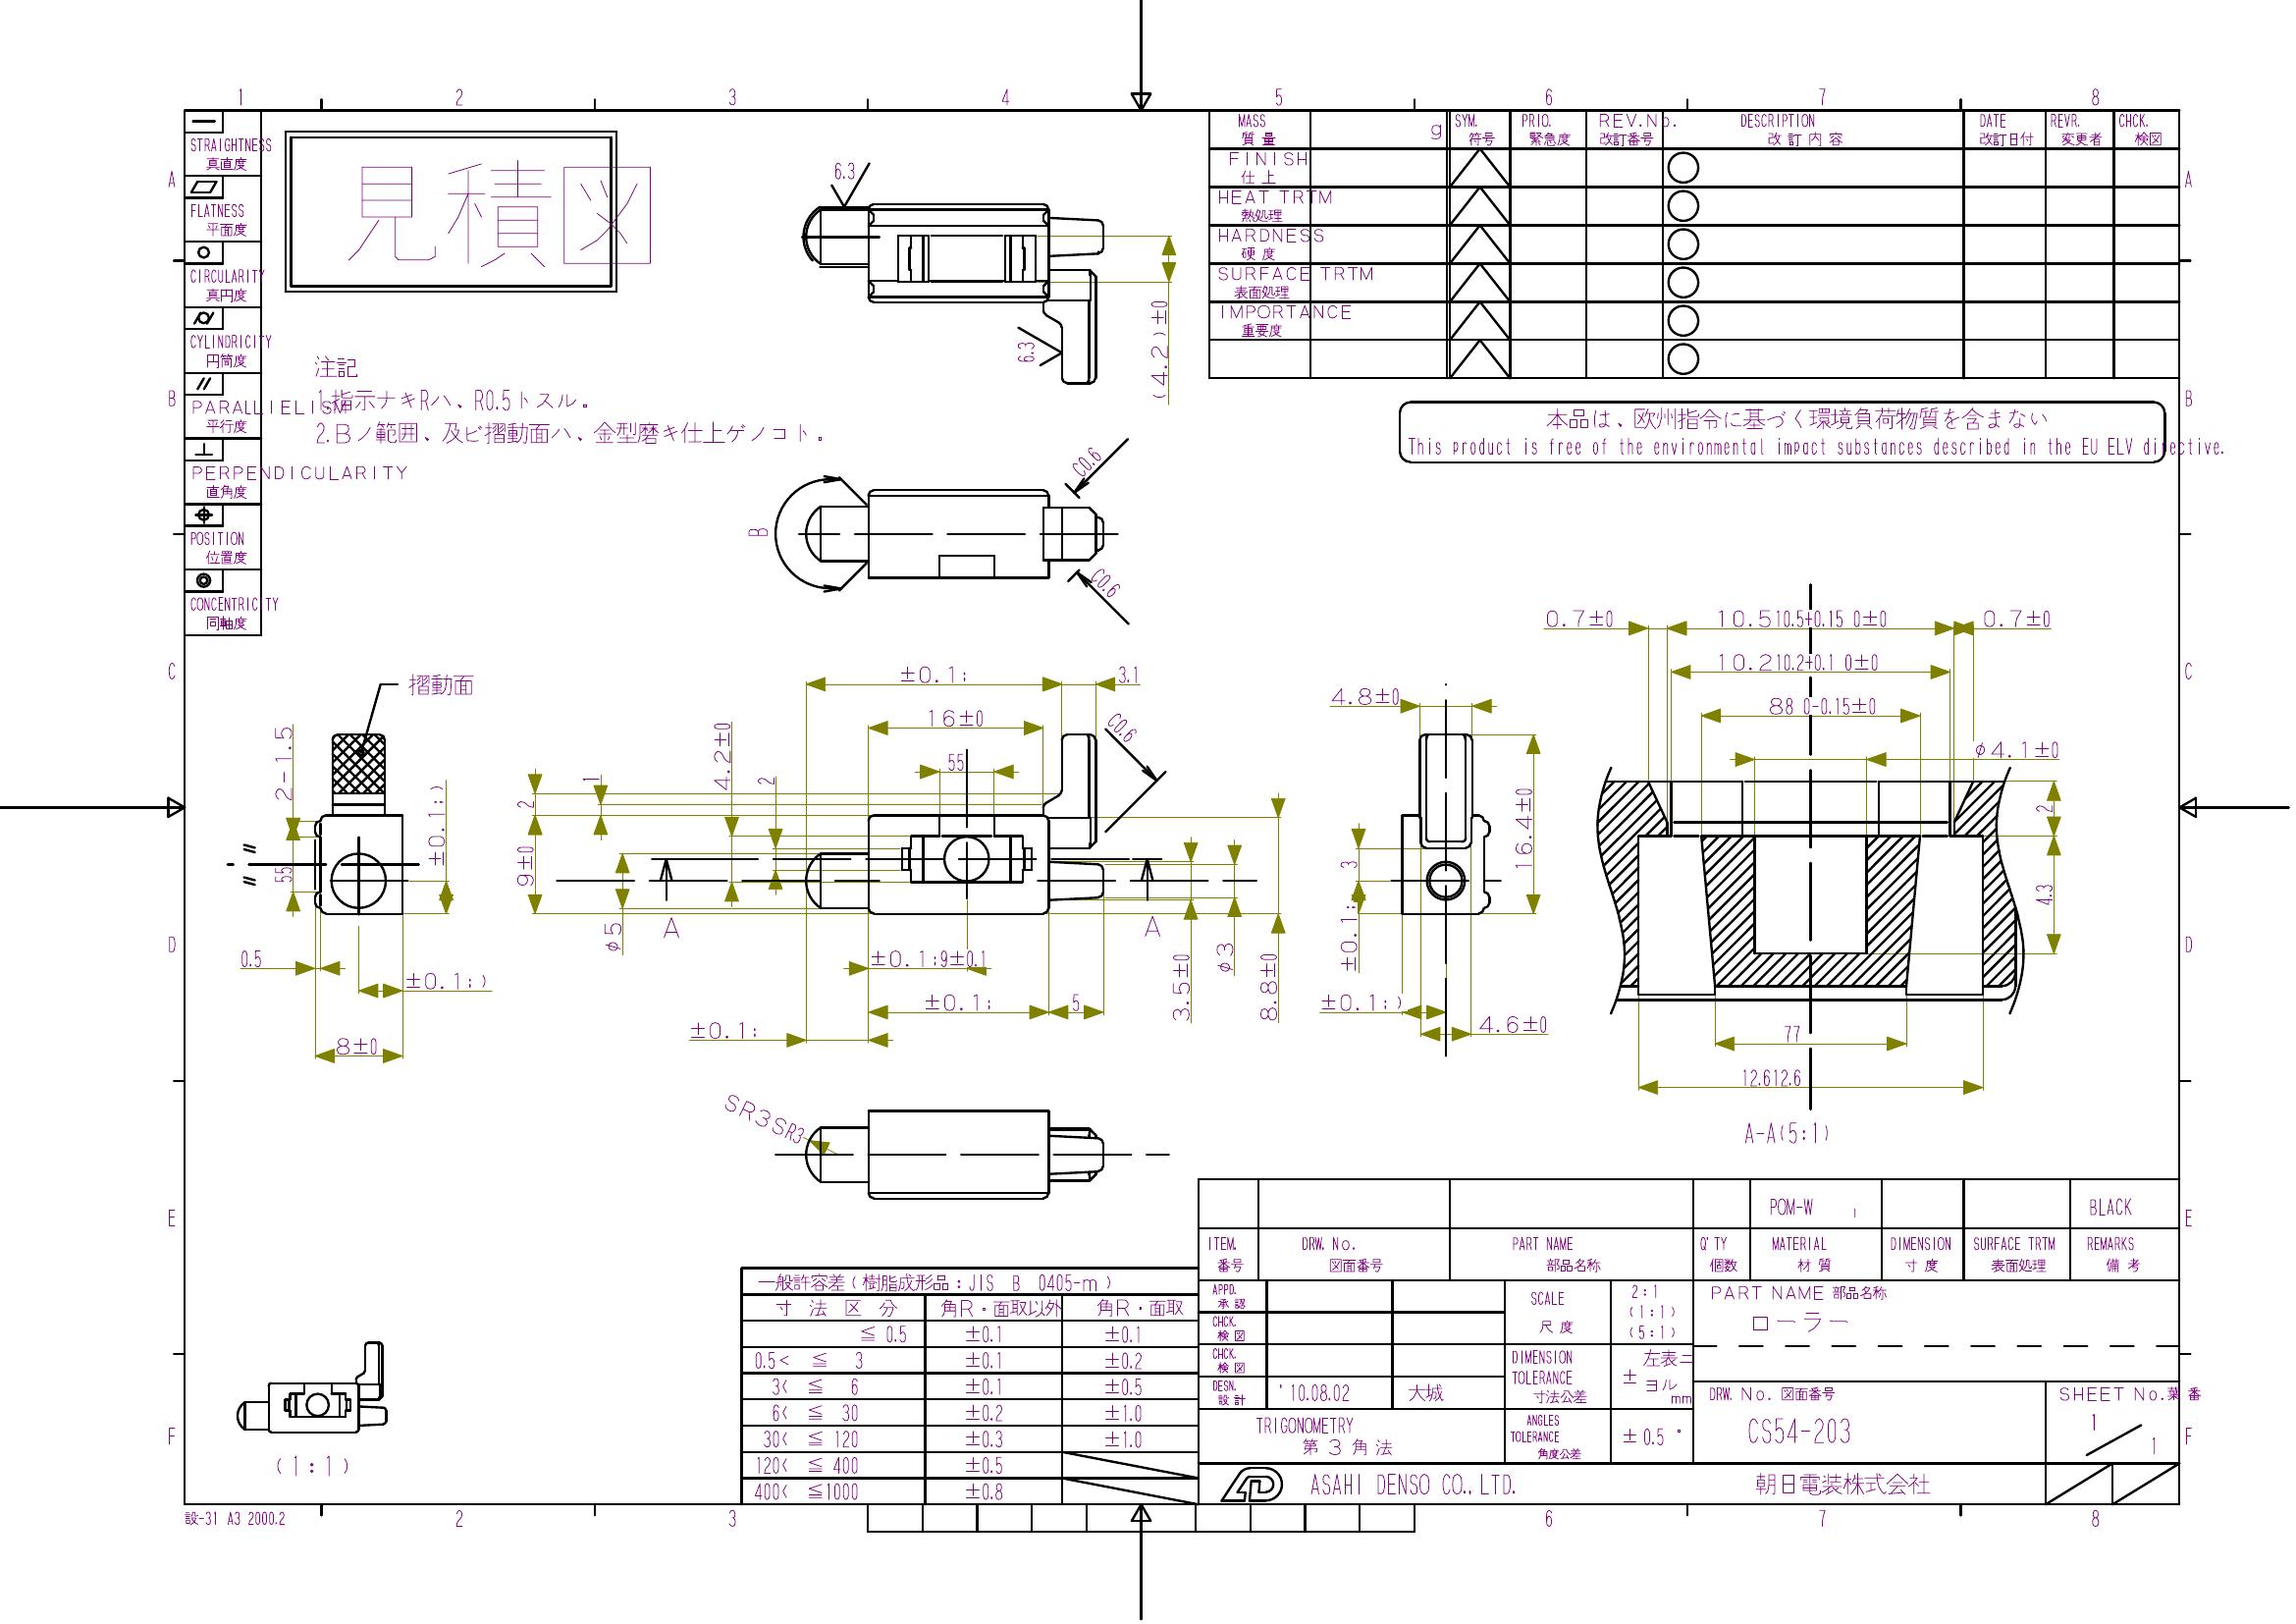anntotation_text: (279, 128, 655, 295), (1398, 399, 2226, 464), (309, 355, 824, 446), (1741, 1118, 1830, 1144), (406, 671, 474, 698), (274, 1454, 348, 1476), (1142, 912, 1163, 939), (661, 916, 682, 940), (743, 524, 769, 540)
dimension_text: (1716, 606, 1888, 631), (1713, 650, 1880, 673), (1767, 691, 1880, 717), (870, 949, 986, 972), (1145, 297, 1170, 404), (1969, 735, 2062, 759), (706, 717, 734, 793), (1319, 991, 1404, 1016), (423, 780, 446, 868), (183, 1508, 286, 1527), (683, 1018, 761, 1042), (1980, 606, 2052, 633), (1328, 684, 1404, 708), (1541, 605, 1616, 629), (720, 1107, 808, 1128), (271, 724, 293, 805), (404, 970, 490, 991), (1513, 786, 1534, 872), (1256, 947, 1279, 1025), (924, 701, 986, 728), (1168, 949, 1191, 1019), (896, 664, 968, 685), (922, 990, 993, 1011), (1477, 1012, 1548, 1033), (1739, 1065, 1804, 1086), (1337, 914, 1358, 974), (332, 1033, 379, 1058), (515, 844, 536, 889), (1089, 571, 1124, 592), (601, 919, 622, 954), (1066, 452, 1107, 469), (2032, 875, 2054, 909), (1014, 339, 1036, 367), (1110, 663, 1140, 684), (1214, 939, 1231, 974), (1103, 719, 1142, 735), (831, 160, 857, 181), (237, 947, 262, 968), (945, 749, 964, 773), (1337, 856, 1361, 874), (271, 865, 290, 886), (1783, 1023, 1802, 1044), (2031, 798, 2054, 816), (513, 794, 536, 810), (1068, 990, 1082, 1011), (754, 773, 775, 787), (580, 775, 603, 786)
object: (1592, 763, 2027, 1016), (796, 199, 1107, 388), (799, 729, 1108, 917), (803, 485, 1108, 582), (803, 1107, 1107, 1202), (311, 729, 406, 919), (1397, 729, 1491, 917), (232, 1338, 388, 1438)
title_block: (736, 1176, 2184, 1508), (1205, 104, 2184, 381), (183, 107, 264, 638)
